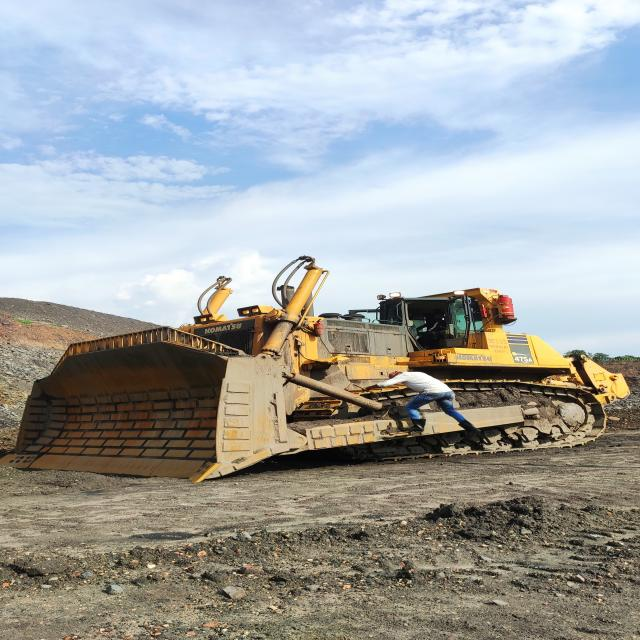bull_dozer/loader/grader: (4, 259, 629, 481)
